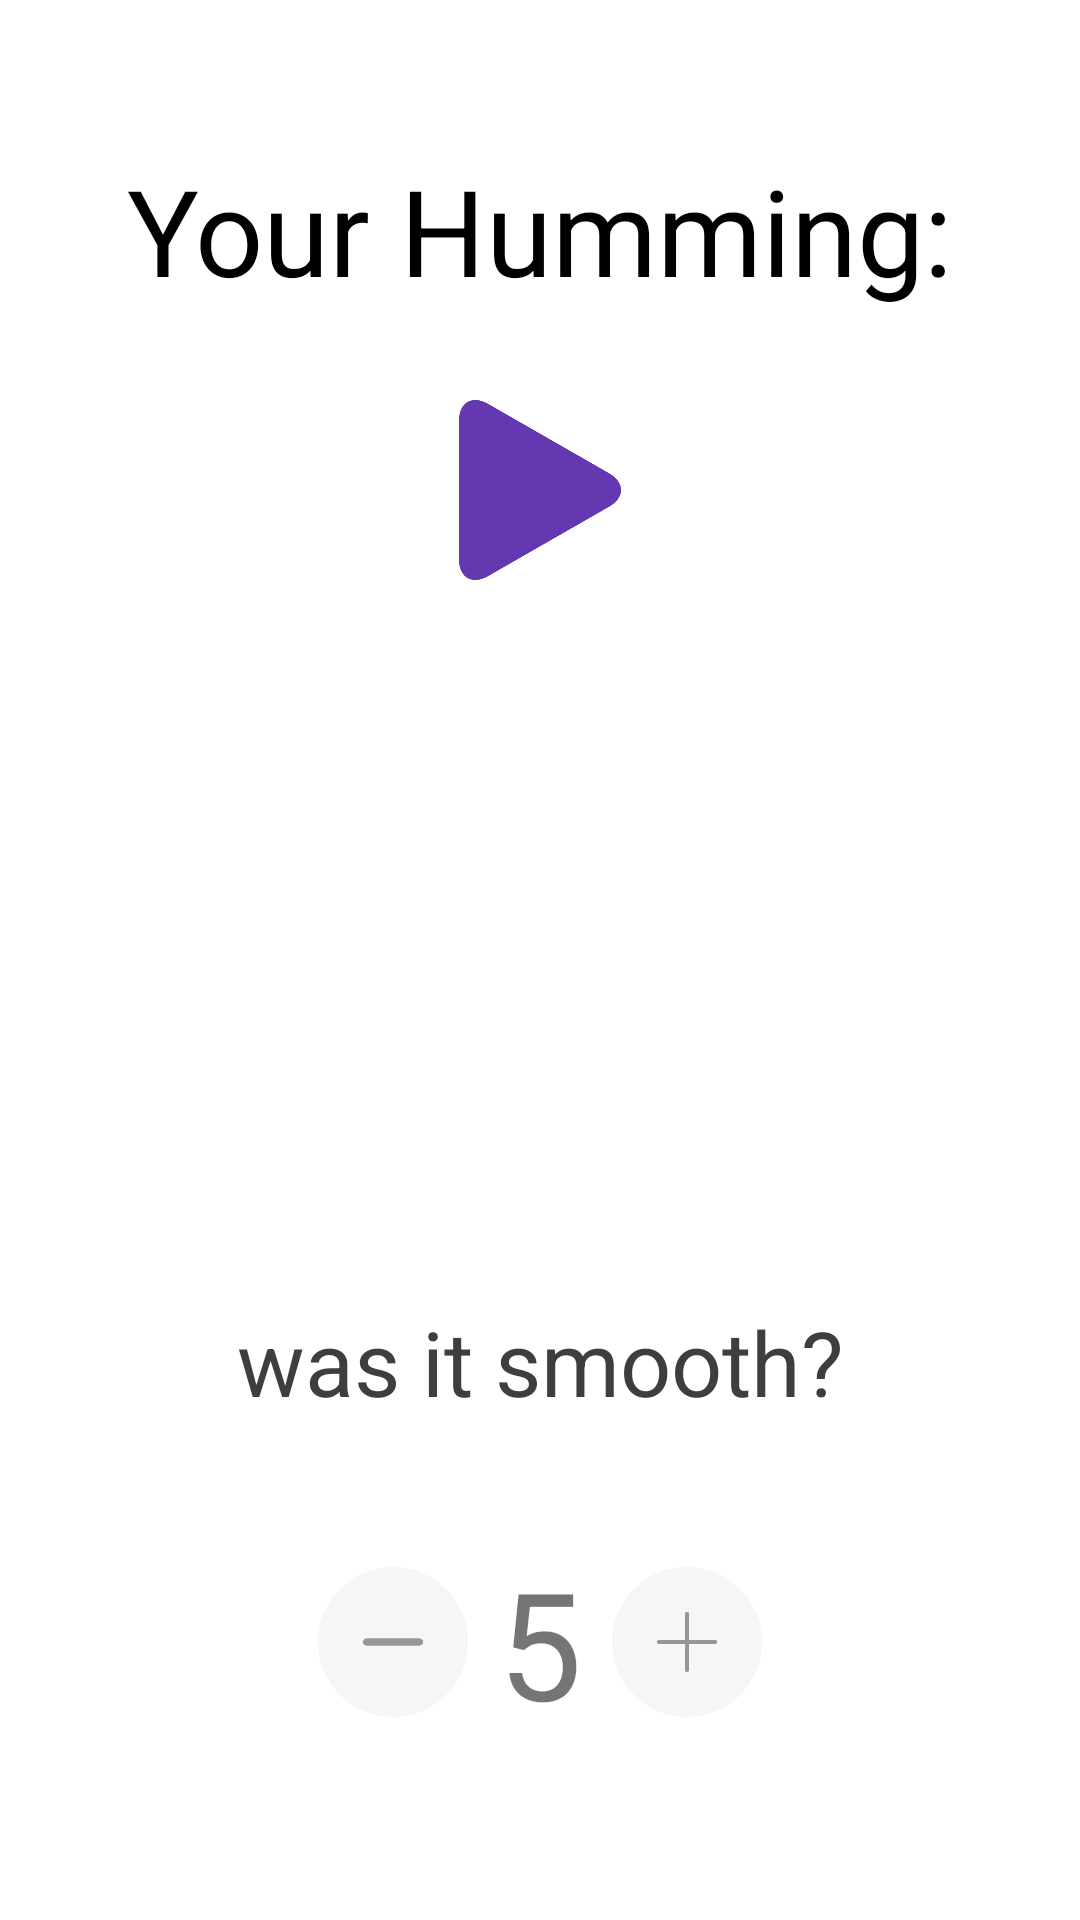

Where icons sit on this 1080×1920 app screen, as (x1, y1, x2, y2):
play: (459, 400, 621, 580)
plus: (657, 1612, 717, 1672)
